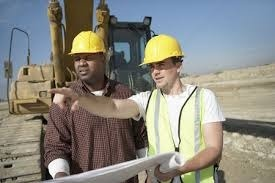helmet: (136, 34, 188, 65), (66, 29, 109, 57)
person: (49, 30, 143, 158), (131, 33, 225, 154)
safety vest: (147, 88, 211, 183)
